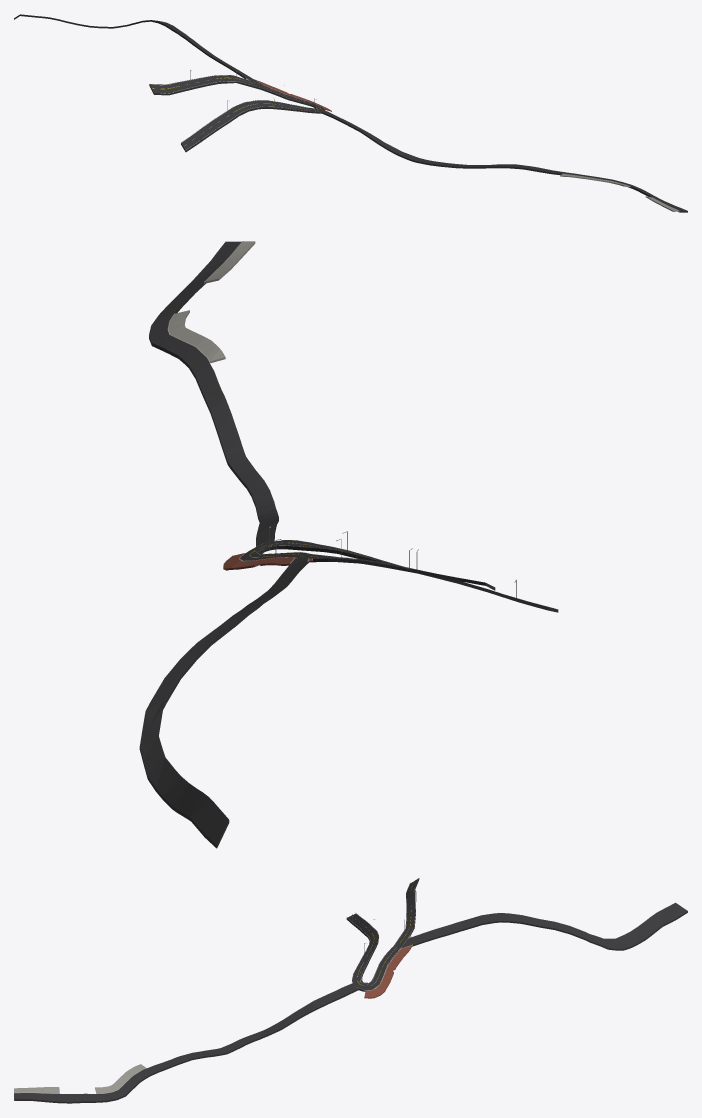
3 views of the same model, one above another, from view 1: azimuth 30°, elevation 25°; view 2: azimuth 150°, elevation 25°; view 3: azimuth 270°, elevation 25° (orthographic). The views are drawn at different scales.
Size of the model in its own units: 257 by 52.9 by 446.
